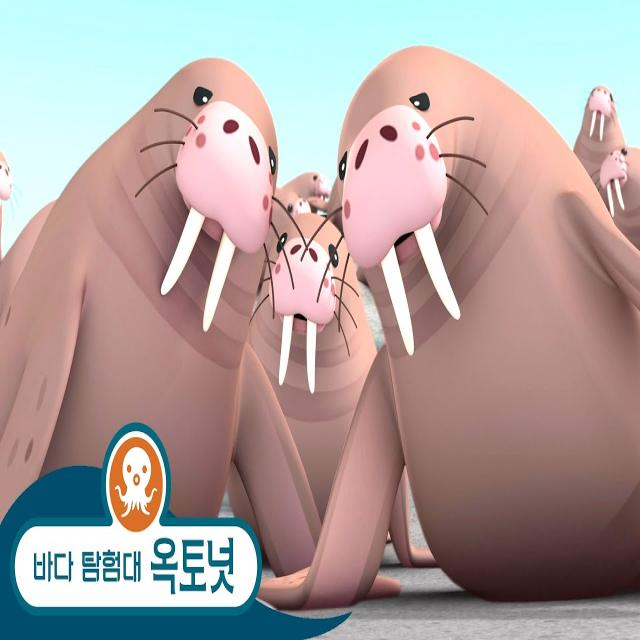walrus: (298, 31, 629, 606), (10, 0, 275, 453), (209, 193, 425, 580)
